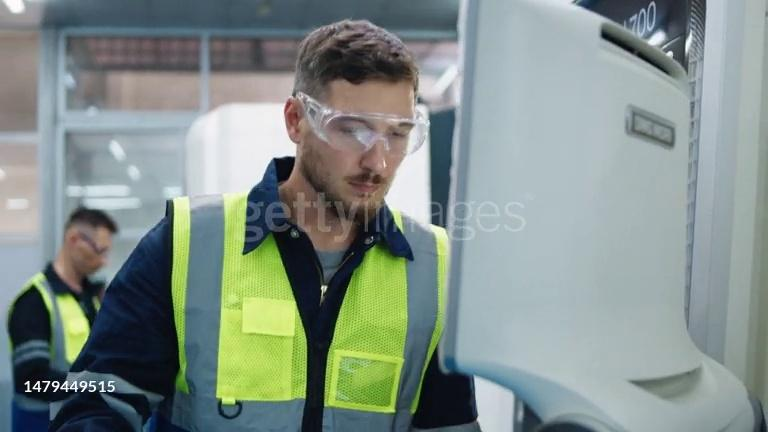person: (59, 13, 479, 432), (6, 205, 115, 432)
